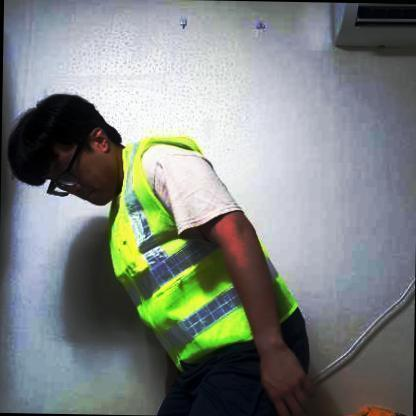no-helmet: (12, 84, 108, 190)
vest: (101, 131, 300, 379)
